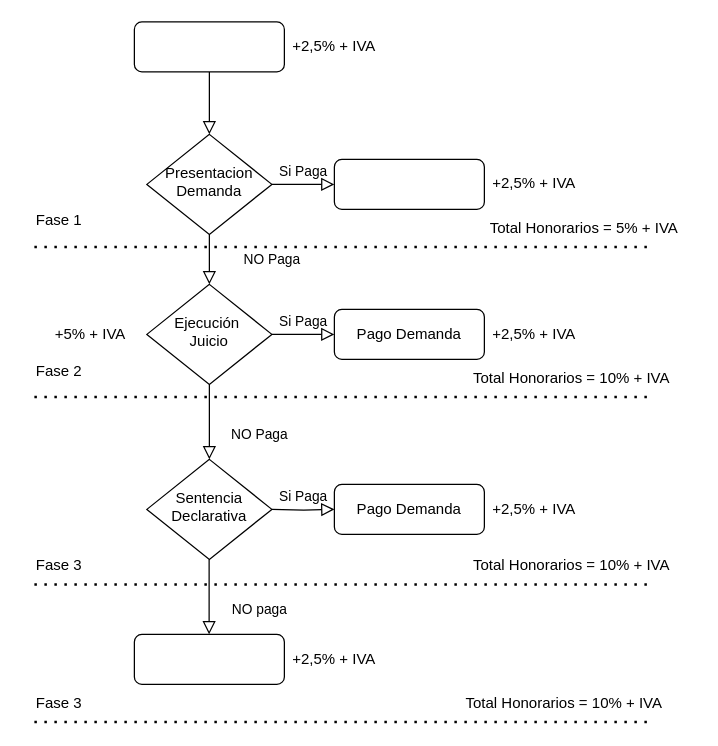
Some shapes in this 718 by 746 pixel diagram are drawn without their labels. Each missing label, with the centre of its shape:
"Acuerdo de Pago" goes at point (408, 183).
"CASO 1, 2, 3, n..." goes at point (208, 46).
"Restitucion Propiedad" goes at point (208, 658).
